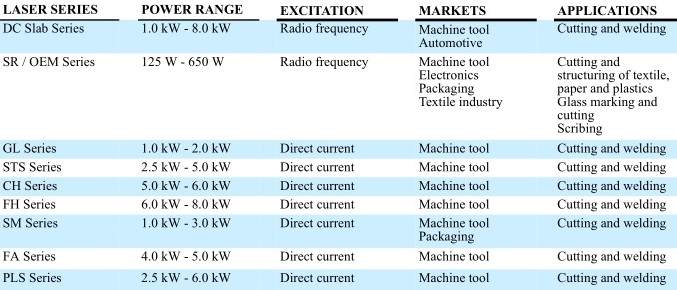column: (557, 1, 671, 290), (140, 1, 245, 290), (2, 1, 99, 290), (280, 2, 369, 290), (417, 1, 503, 290)
row: (1, 140, 677, 155), (1, 249, 677, 264), (1, 271, 677, 286), (1, 55, 677, 69), (1, 160, 677, 174), (1, 199, 677, 213), (1, 3, 677, 16), (1, 96, 677, 109), (1, 110, 677, 123), (1, 179, 677, 192), (1, 23, 677, 35), (1, 123, 677, 135), (1, 217, 677, 229), (1, 231, 677, 243), (1, 84, 677, 95), (2, 70, 677, 81)
